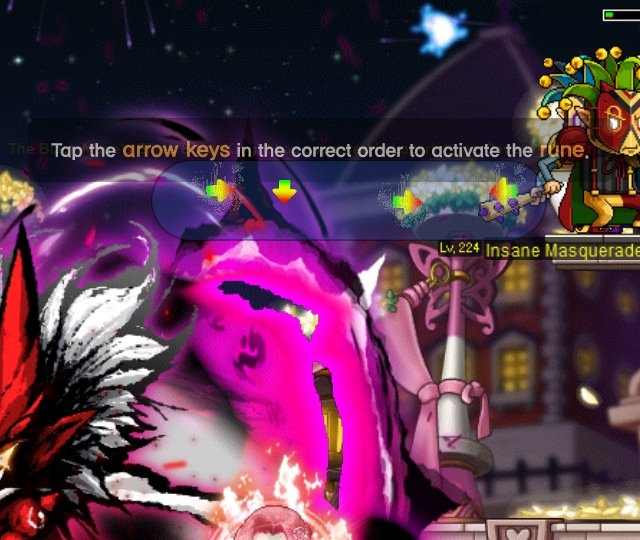down: (264, 171, 307, 210)
left: (481, 173, 526, 213)
right: (385, 183, 429, 224), (199, 173, 241, 210)
